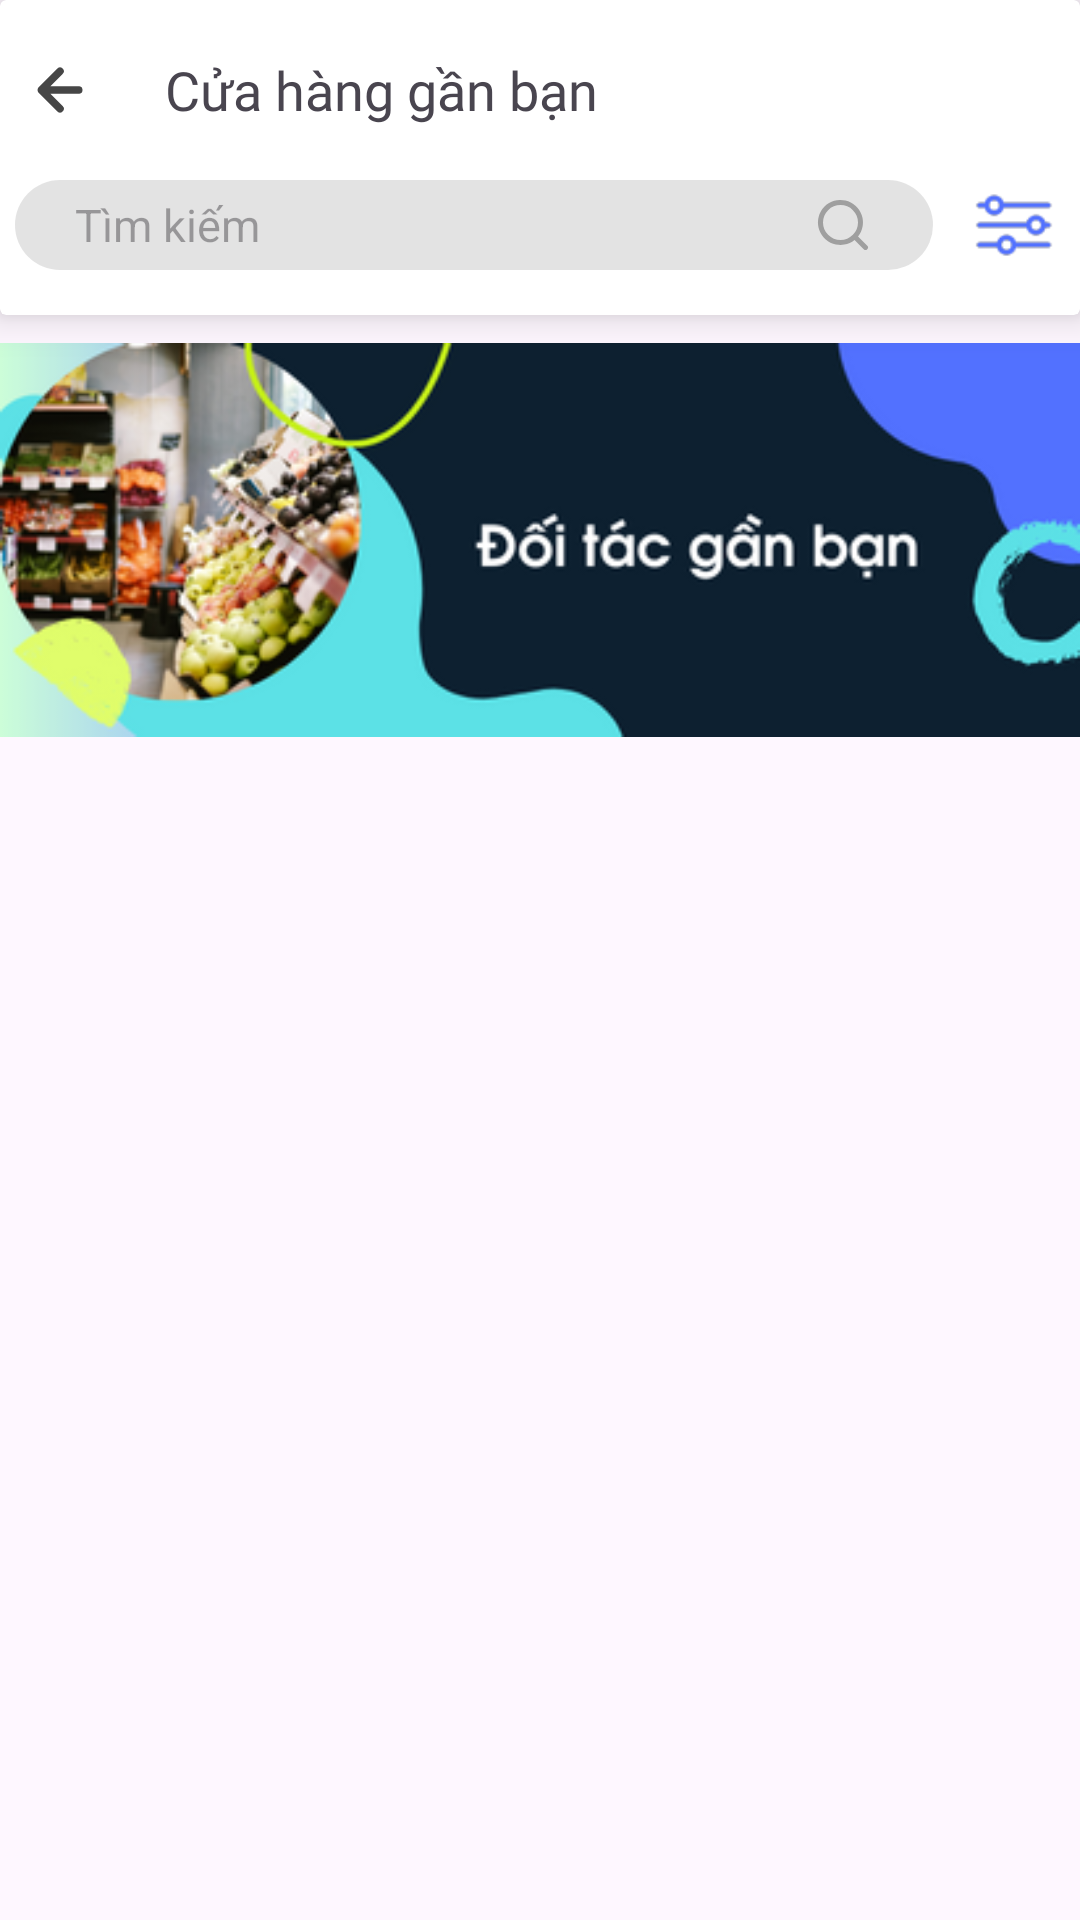

Named icons in this screenshot (1080×1920) and their centers, (x=x, y=y):
arrow left: (x=60, y=90)
filter: (x=1014, y=225)
